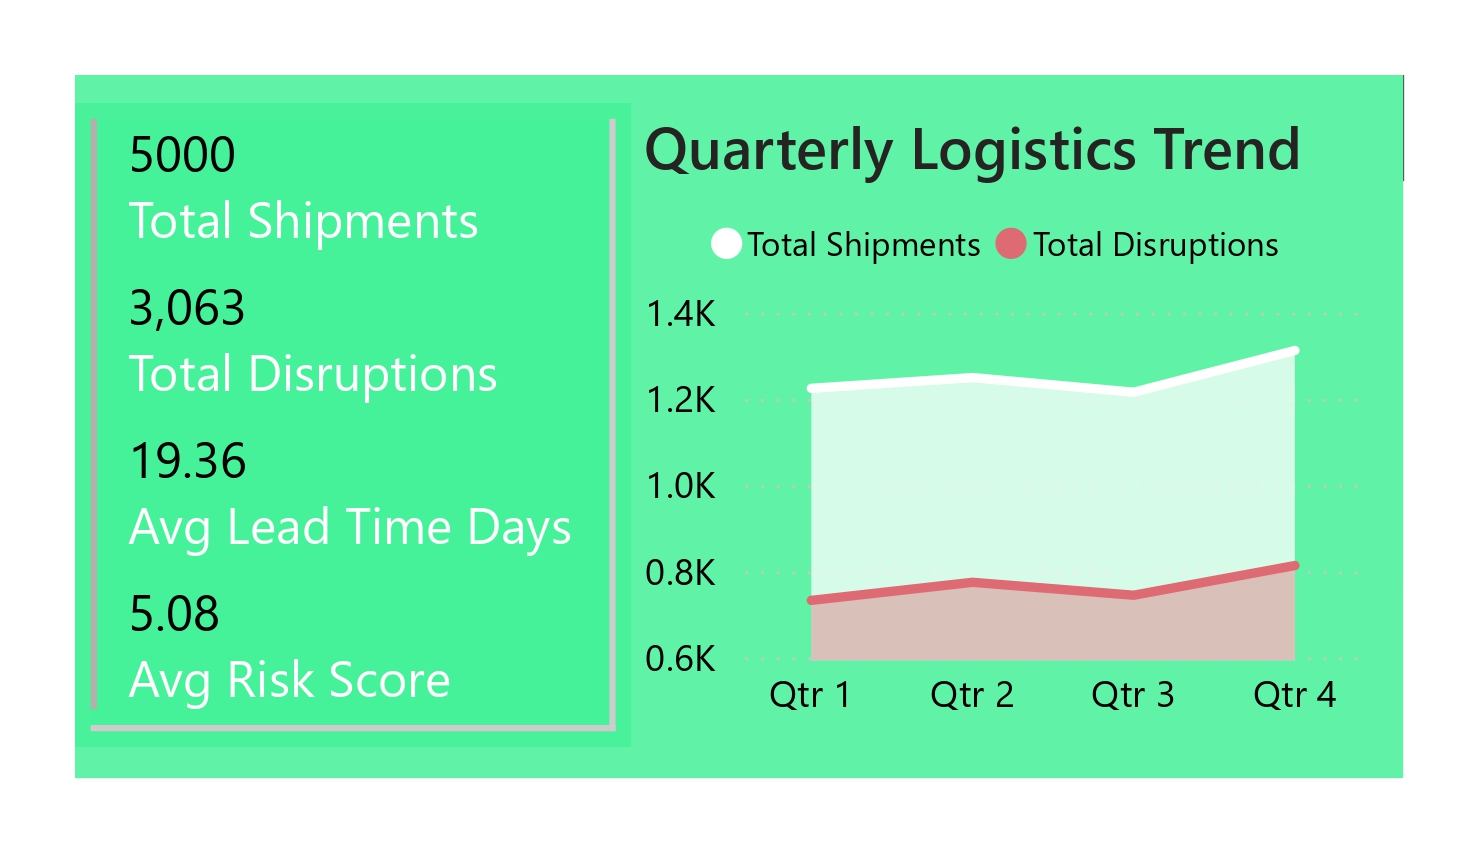

The dashboard page shown, as its layout file describes it:
{"tool":"powerbi","page":{"name":"Tooltip Category","canvas":[425,225],"ordinal":3},"visuals":[{"type":"multiRowCard","fields":{"Values":["Measure Table.Total Shipments","Measure Table.Total Disruptions","Measure Table.Avg Lead Time Days","Avg(db_supply_chain_risk supply_data.Geopolitical_Risk_Score)"]},"box":[0,8.8,177.5,206.2],"z":0},{"type":"areaChart","title":"Quarterly Logistics Trend","fields":{"Category":["db_supply_chain_risk supply_data.Date.Variation.Date Hierarchy.Quarter"],"Y":["Measure Table.Total Shipments","Sum(db_supply_chain_risk supply_data.Disruption_Occurred)"]},"box":[177.1,10,238.6,205.7],"z":1000}]}

Visuals, with their boxes on the page's 425x225 design canvas (x1, y1, x2, y2). These are canvas units, not pixel positions in the 1479x854 screenshot, which may show the page scaled, cropped or inside an application window:
multiRowCard - Measure Table.Total Shipments x Measure Table.Total Disruptions: [x1=0, y1=9, x2=178, y2=215]
"Quarterly Logistics Trend" areaChart: [x1=177, y1=10, x2=416, y2=216]
